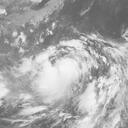cyclone: (36, 48, 80, 96)
